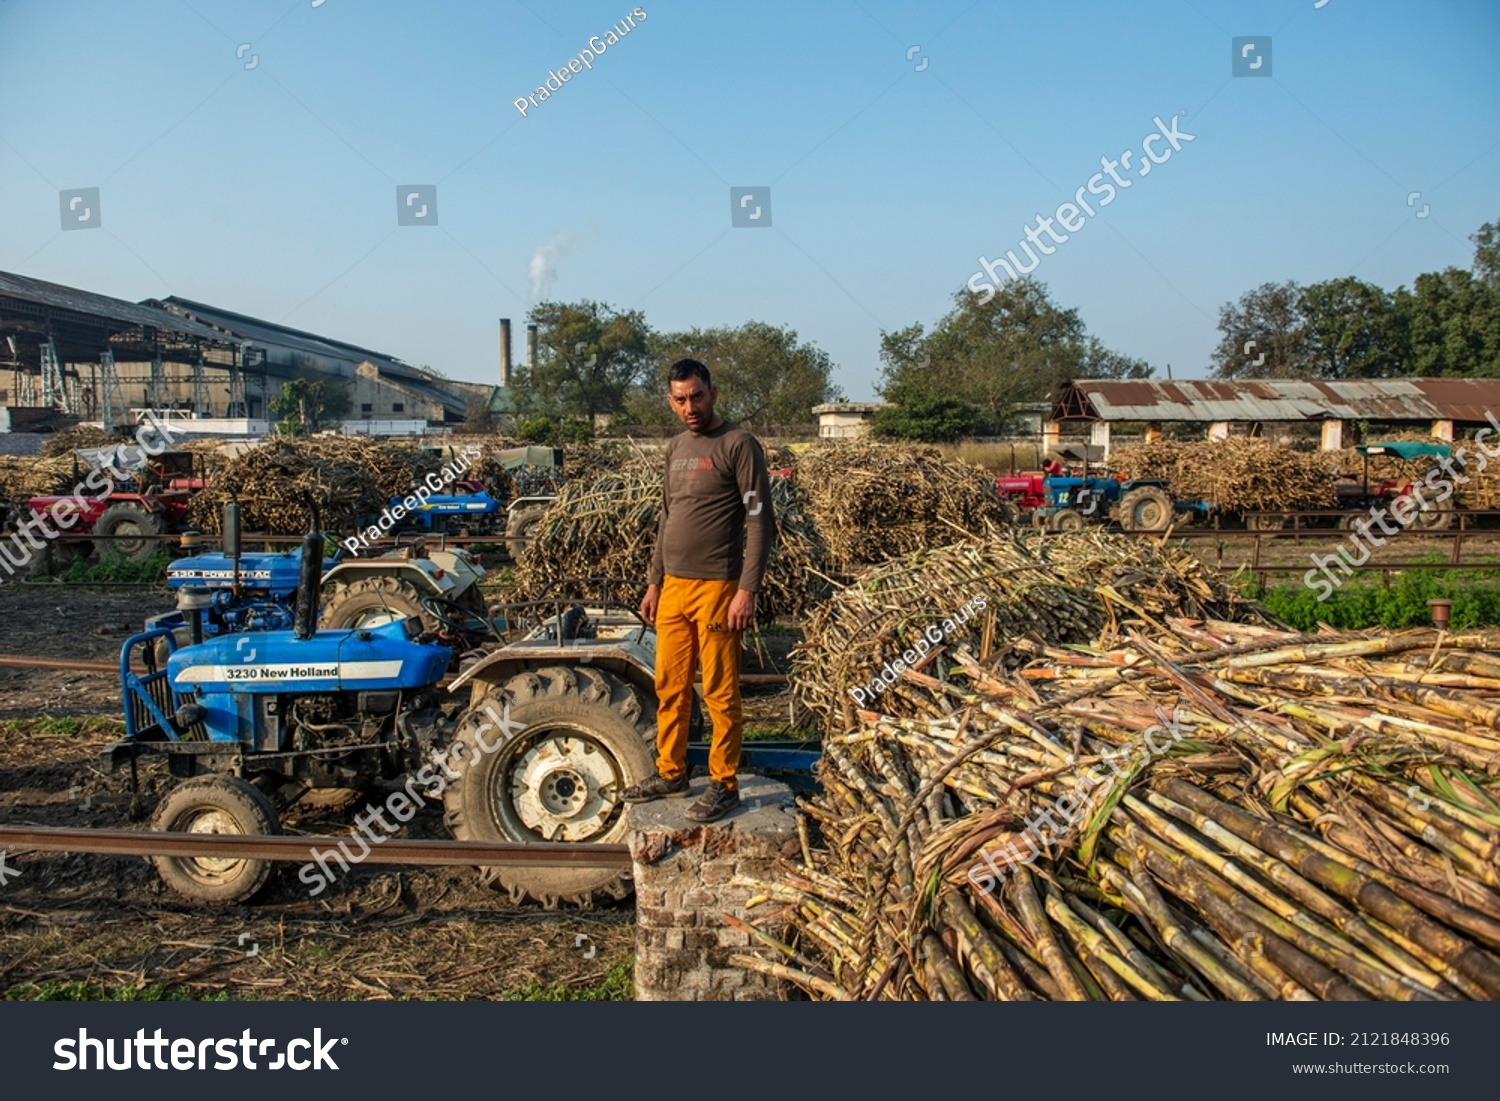wheel: (441, 693, 629, 898), (149, 772, 271, 911)
